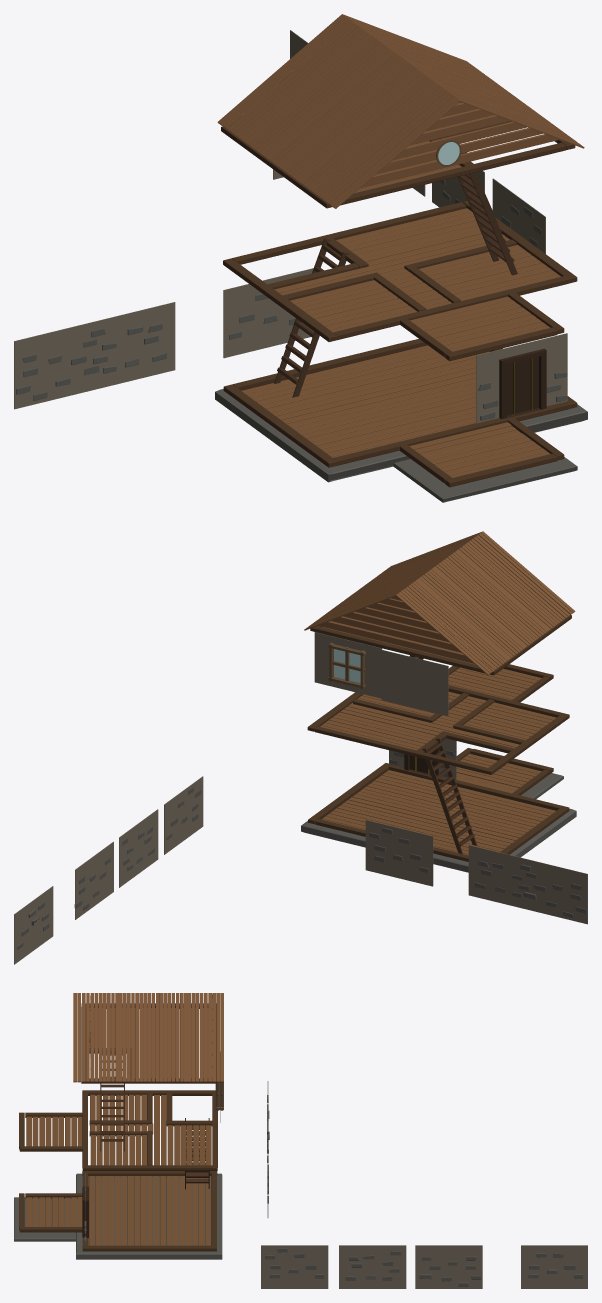
Rendered from hausee.fbx.
The picture shows the model from 3 angles, top to bottom: view 1: azimuth 30°, elevation 25°; view 2: azimuth 150°, elevation 25°; view 3: azimuth 270°, elevation 25°; orthographic projection. The views are drawn at different scales.
Visible parts, largest first — view 1: Balcıny1, roof3, Ground2, Wall2, roof1, Wall1, WallDoor, Wall3, Cube.025, Ground4, Ground1, Stairs1 (+4 smaller); view 2: roof3, Ground2, Balcıny1, roof2, Wall3, Wall1.001, Wall2, Wimdow1, Wall1, Ground4, Wall5, Wall7 (+6 smaller); view 3: roof3, Ground2, Balcıny1, Cube.025, Wall5, Wall6, Wall7, Wall4, Ground4, Ground1, Stairs1.001, Stairs1 (+1 smaller).
Part boxes in pixels (x1,y1,x2,y2): Balcıny1: [223, 201, 577, 361]; roof3: [217, 14, 584, 208]; Ground2: [223, 339, 577, 487]; Wall2: [84, 302, 175, 391]; roof1: [324, 102, 559, 196]; Wall1: [14, 319, 105, 409]; WallDoor: [476, 333, 567, 423]; Wall3: [223, 268, 313, 358]; Cube.025: [215, 389, 587, 482]; Ground4: [221, 102, 575, 208]; Ground1: [393, 457, 577, 502]; Stairs1: [274, 238, 348, 397]; roof3: [304, 531, 575, 674]; Ground2: [308, 748, 569, 861]; Balcıny1: [307, 664, 569, 774]; roof2: [318, 596, 493, 668]; Wall3: [365, 820, 433, 886]; Wall1.001: [381, 649, 448, 716]; Wall2: [468, 845, 535, 911]; Wimdow1: [314, 632, 382, 698]; Wall1: [524, 859, 587, 924]; Ground4: [310, 598, 571, 675]; Wall5: [119, 809, 158, 887]; Wall7: [14, 886, 53, 964]; roof3: [73, 993, 223, 1082]; Ground2: [19, 1171, 217, 1251]; Balcıny1: [19, 1090, 217, 1170]; Cube.025: [76, 1173, 222, 1259]; Wall5: [339, 1245, 406, 1288]; Wall6: [415, 1245, 482, 1288]; Wall7: [521, 1245, 587, 1288]; Wall4: [261, 1245, 328, 1288]; Ground4: [81, 1003, 216, 1083]; Ground1: [14, 1197, 75, 1241]; Stairs1.001: [100, 1053, 124, 1151]; Stairs1: [185, 1118, 209, 1189].
Size of the model in its own units: 16.14 by 10.31 by 23.67.
